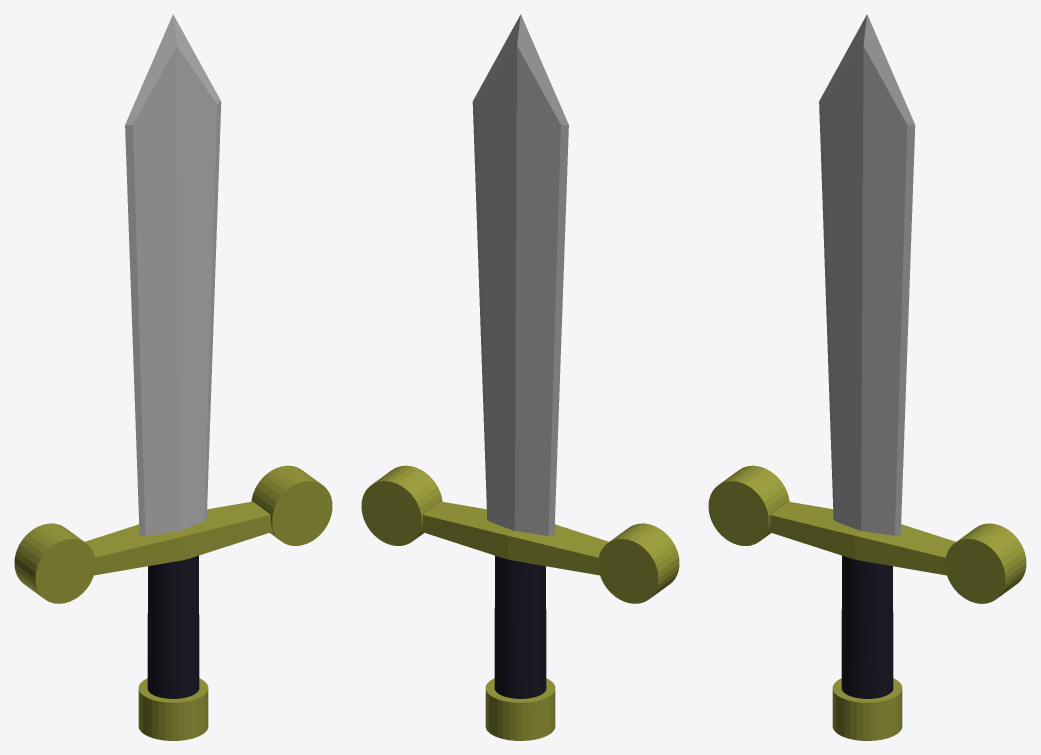
The model's file is BroadSword.fbx.
3 views of the same model, side by side, from view 1: azimuth 30°, elevation 25°; view 2: azimuth 150°, elevation 25°; view 3: azimuth 330°, elevation 25° (orthographic).
Visible parts, largest first — view 1: BroadSword; view 2: BroadSword; view 3: BroadSword.
Part boxes in pixels (x1,y1,x2,y2): BroadSword: (14, 14, 332, 740); BroadSword: (361, 14, 679, 740); BroadSword: (708, 14, 1026, 740).
Size of what is drawn, in the model's own units: 7.13 by 34.97 by 80.04.
